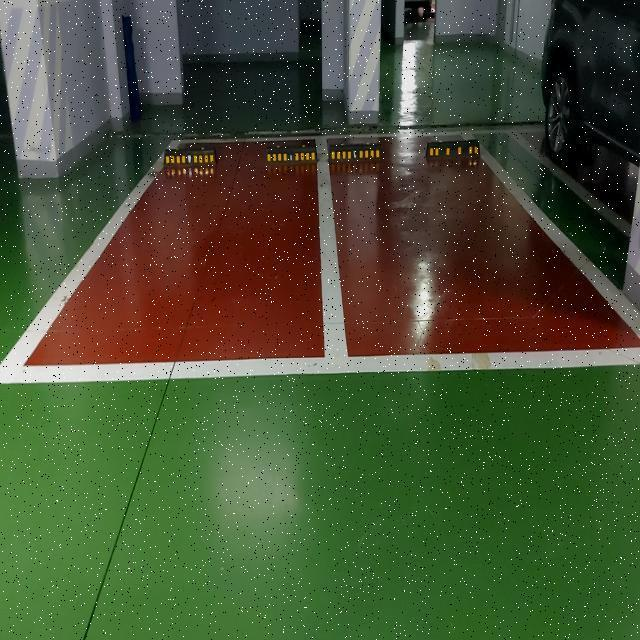Vacant: (316, 131, 636, 385), (19, 136, 329, 388)
